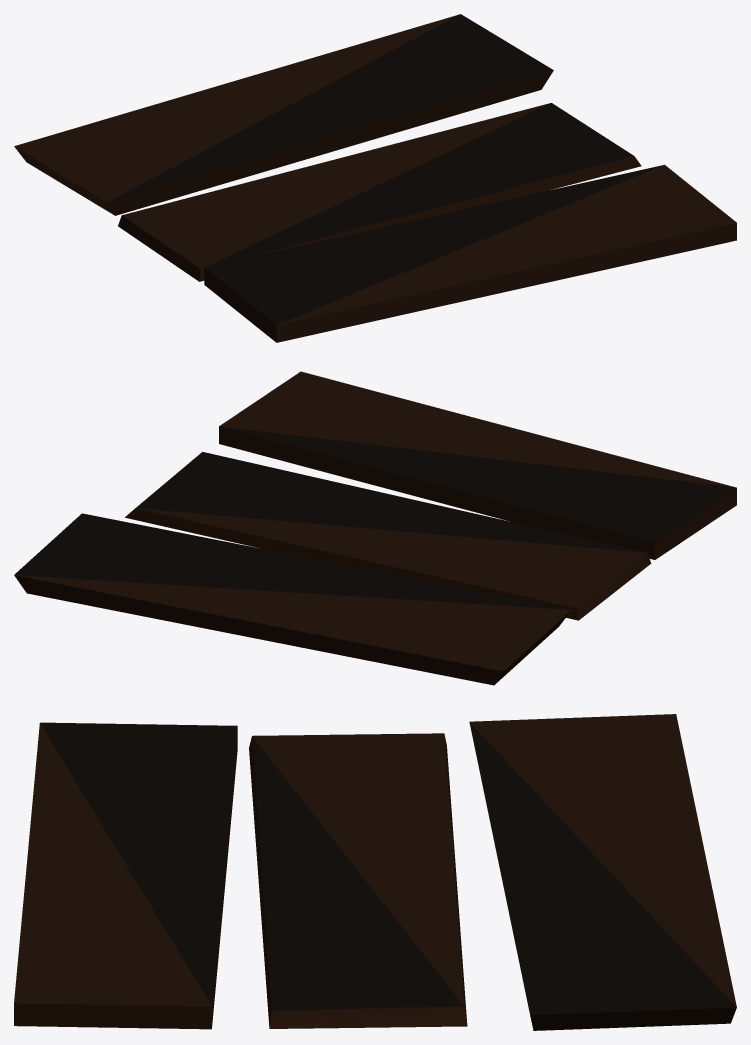
The model's file is Bridge_1_middle_1.fbx.
The picture shows the model from 3 angles, top to bottom: view 1: azimuth 30°, elevation 25°; view 2: azimuth 150°, elevation 25°; view 3: azimuth 270°, elevation 25°; orthographic projection. The views are drawn at different scales.
Visible parts, largest first — view 1: Bridge_1_middle_1; view 2: Bridge_1_middle_1; view 3: Bridge_1_middle_1.
Part boxes in pixels (x1=…): Bridge_1_middle_1: x1=14, y1=14, x2=736, y2=342; Bridge_1_middle_1: x1=14, y1=371, x2=736, y2=685; Bridge_1_middle_1: x1=14, y1=714, x2=736, y2=1030.
Size of the model in its own units: 197 by 6.94 by 200.
